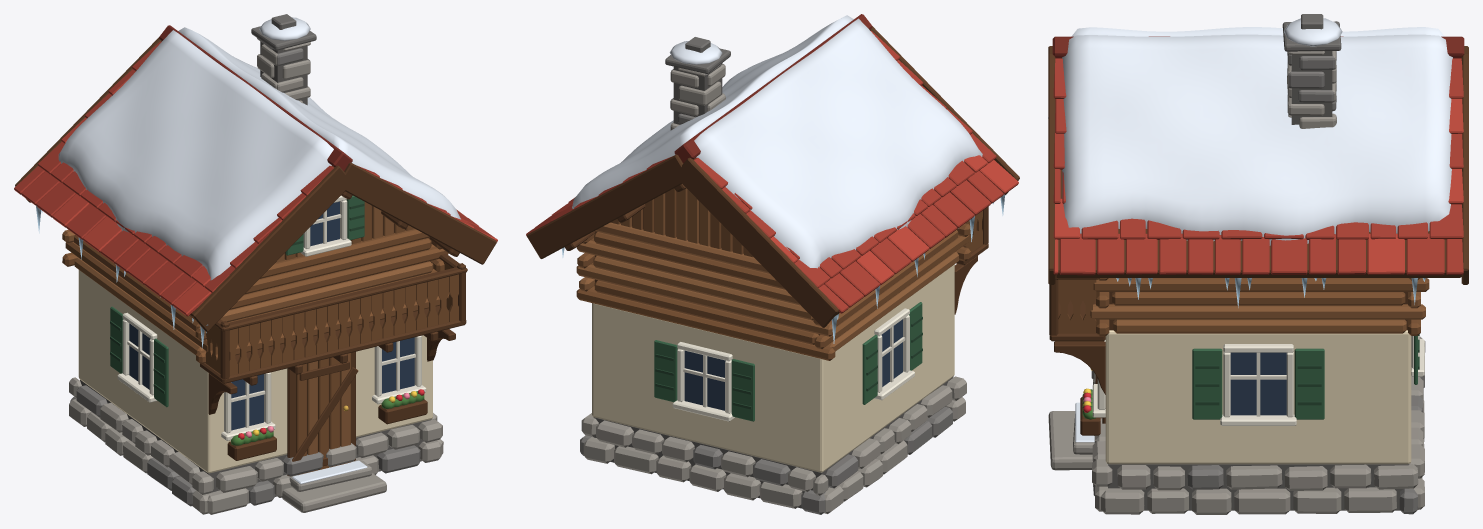
Rendered from house_0.glb.
3 views of the same model, side by side, from view 1: azimuth 30°, elevation 25°; view 2: azimuth 150°, elevation 25°; view 3: azimuth 270°, elevation 25° (orthographic). The views are drawn at different scales.
Visible parts, largest first — view 1: House0.001; view 2: House0.001; view 3: House0.001.
Part boxes in pixels (<box>): House0.001: <box>14,14,497,514</box>; House0.001: <box>526,14,1019,514</box>; House0.001: <box>1048,14,1468,514</box>.
Size of the model in its own units: 4.12 by 4.96 by 4.13.
